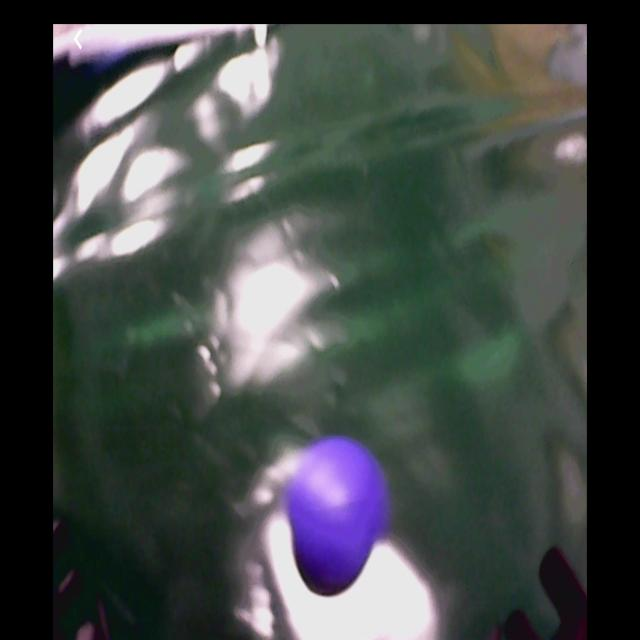ball: (287, 438, 388, 579)
